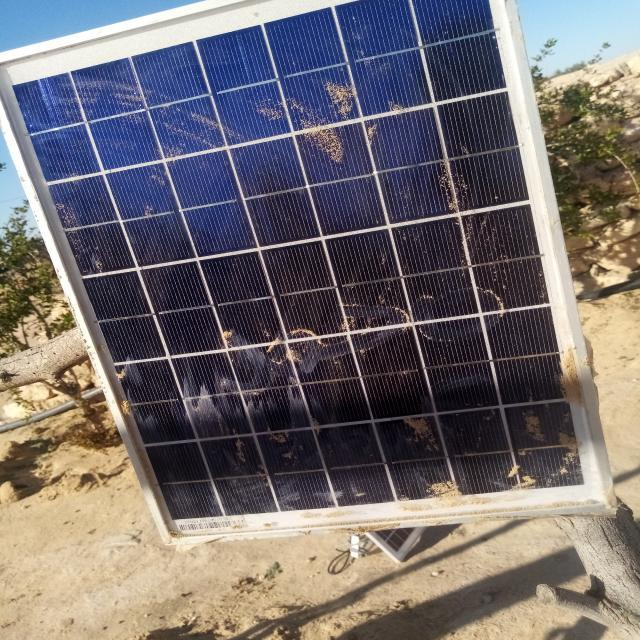faulty: (0, 0, 617, 551)
